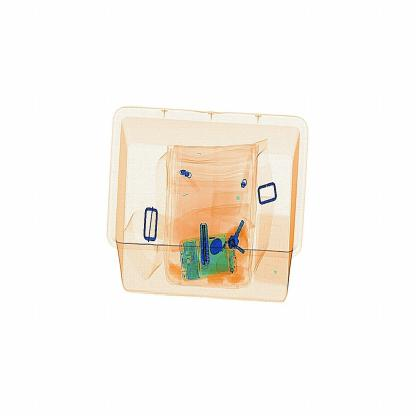scissors: (191, 218, 217, 274)
